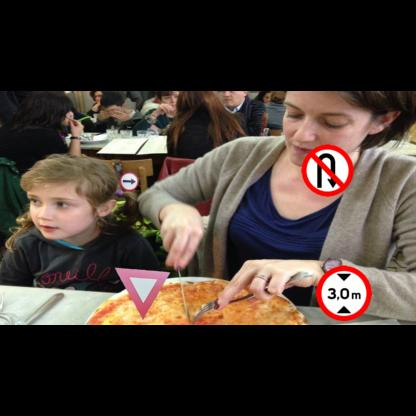R-15: (316, 265, 372, 321)
R-2: (115, 268, 170, 320)
R-24a: (120, 172, 138, 191)
